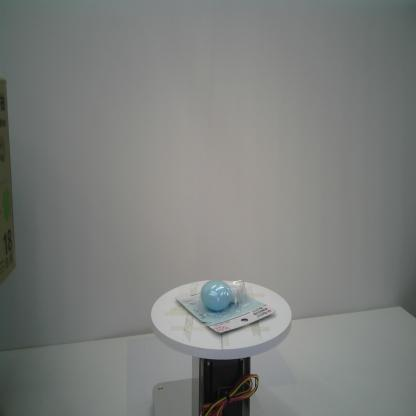Stationery: (174, 278, 276, 335)
